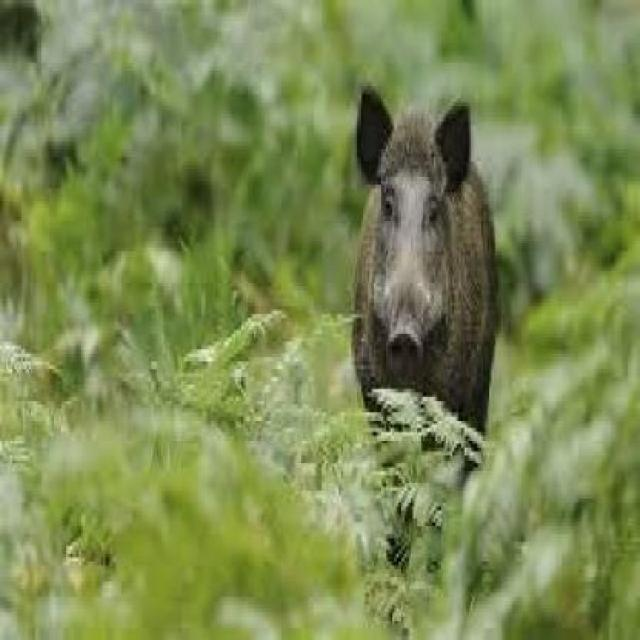wildboar: (347, 77, 504, 608)
